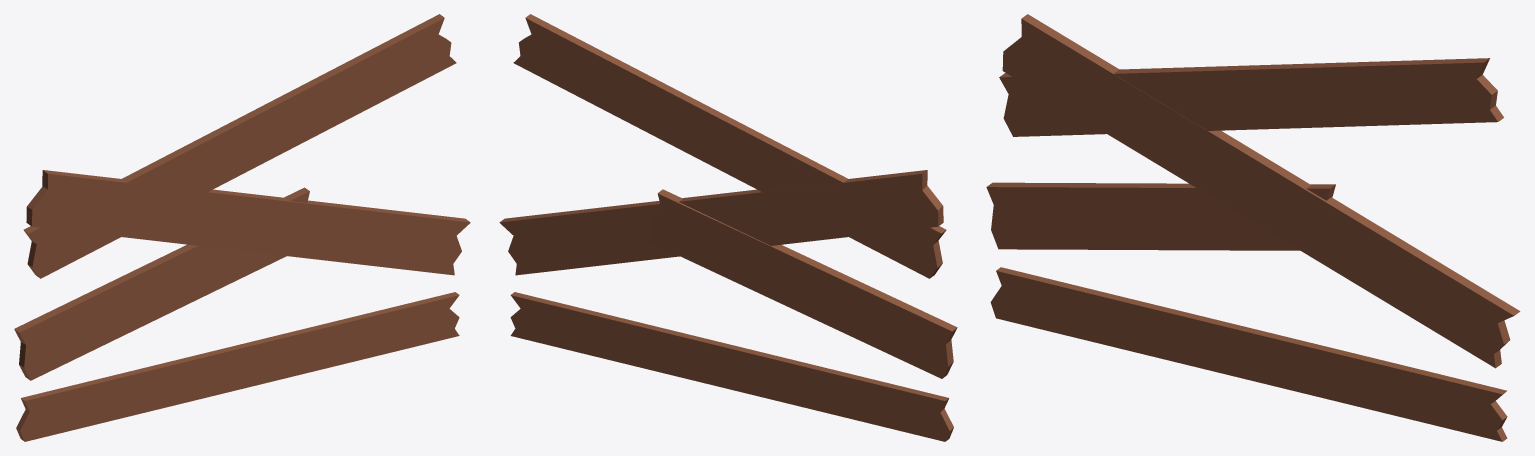
Rendered from Tahta_Engel.fbx.
3 renders of one model, left to right at view 1: azimuth 30°, elevation 25°; view 2: azimuth 150°, elevation 25°; view 3: azimuth 330°, elevation 25°, orthographic. The views are drawn at different scales.
Parts seen in each view (by area): view 1: Cube, Cube.002, Cube.003, Cube.001; view 2: Cube, Cube.002, Cube.003, Cube.001; view 3: Cube, Cube.002, Cube.003, Cube.001.
Boxes of the visible parts, x1,y1,x2,y2 form: Cube: [26, 170, 470, 275]; Cube.002: [16, 292, 459, 441]; Cube.003: [23, 14, 456, 278]; Cube.001: [14, 187, 309, 380]; Cube: [499, 170, 943, 275]; Cube.002: [510, 292, 953, 441]; Cube.003: [513, 14, 946, 278]; Cube.001: [647, 189, 957, 378]; Cube: [1002, 14, 1520, 368]; Cube.002: [990, 267, 1507, 441]; Cube.003: [999, 58, 1503, 136]; Cube.001: [986, 182, 1335, 250].
Bounding box in the file's own units: 395 × 269 × 12.14.
